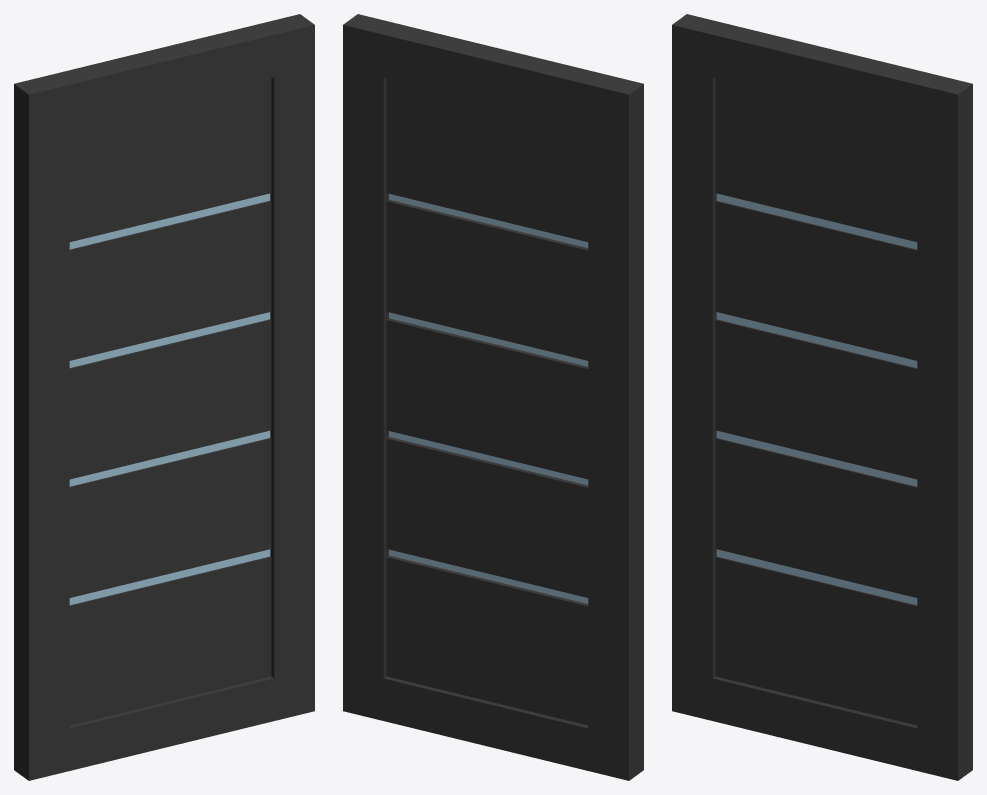
The model's file is Door4_C2.fbx.
The picture shows the model from 3 angles, left to right: view 1: azimuth 30°, elevation 25°; view 2: azimuth 150°, elevation 25°; view 3: azimuth 330°, elevation 25°; orthographic projection.
Visible parts, largest first — view 1: Door4_C2; view 2: Door4_C2; view 3: Door4_C2.
Boxes of the visible parts, x1,y1,x2,y2 form: Door4_C2: (14, 14, 314, 780); Door4_C2: (343, 14, 643, 780); Door4_C2: (672, 14, 972, 780).
Size of the model in its own units: 0.89 by 2.04 by 0.08.
